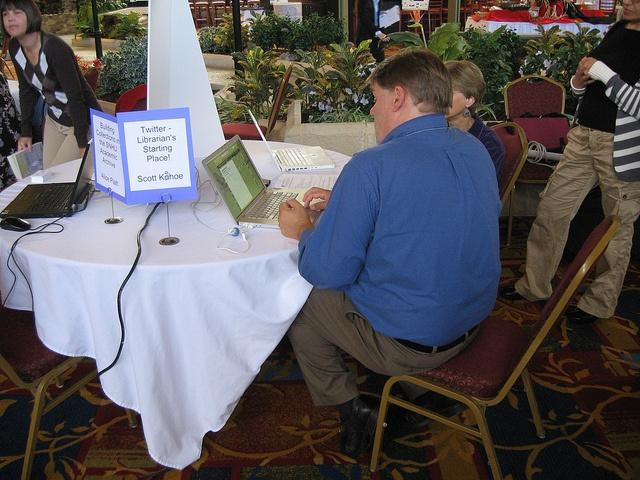Kursi: (367, 214, 621, 479)
